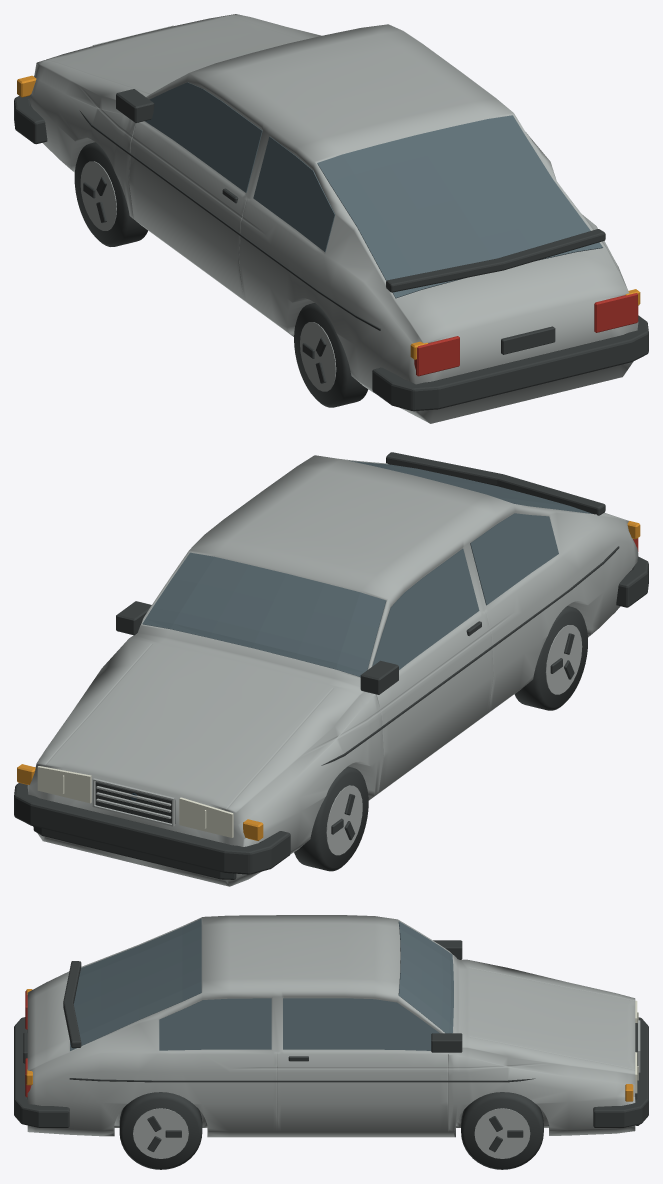
The model's file is saab900-t16.glb.
3 views of the same model, one above another, from view 1: azimuth 30°, elevation 25°; view 2: azimuth 150°, elevation 25°; view 3: azimuth 270°, elevation 25° (orthographic). The views are drawn at different scales.
Parts seen in each view (by area): view 1: body, glass_envelope, parts_charcoal_plastic_rubber, parts_tail_lamp_red, wheel_rl, wheel_fl, trim_rim_fl, trim_rim_rl; view 2: body, glass_envelope, parts_charcoal_plastic_rubber, parts_headlamp_ivory, wheel_fl, wheel_rl, trim_rim_fl, trim_rim_rl, parts_satin_alloy, parts_indicator_amber; view 3: body, glass_envelope, parts_charcoal_plastic_rubber, wheel_rr, wheel_fr, trim_rim_fr, trim_rim_rr, trim_spokes_fr, trim_spokes_rr.
Part boxes in pixels (left/top/right/bottom): body: left=28, top=14, right=638, bottom=423; glass_envelope: left=145, top=82, right=602, bottom=298; parts_charcoal_plastic_rubber: left=14, top=89, right=648, bottom=411; parts_tail_lamp_red: left=414, top=293, right=638, bottom=376; wheel_rl: left=294, top=303, right=368, bottom=407; wheel_fl: left=74, top=142, right=147, bottom=246; trim_rim_fl: left=80, top=161, right=116, bottom=230; trim_rim_rl: left=300, top=322, right=336, bottom=391; body: left=27, top=455, right=638, bottom=886; glass_envelope: left=142, top=460, right=592, bottom=677; parts_charcoal_plastic_rubber: left=14, top=452, right=648, bottom=879; parts_headlamp_ivory: left=37, top=766, right=233, bottom=837; wheel_fl: left=294, top=766, right=368, bottom=871; wheel_rl: left=514, top=606, right=587, bottom=710; trim_rim_fl: left=326, top=785, right=362, bottom=855; trim_rim_rl: left=545, top=625, right=582, bottom=694; parts_satin_alloy: left=92, top=778, right=174, bottom=826; parts_indicator_amber: left=17, top=521, right=640, bottom=840; body: left=27, top=915, right=635, bottom=1137; glass_envelope: left=70, top=918, right=453, bottom=1050; parts_charcoal_plastic_rubber: left=14, top=940, right=648, bottom=1127; wheel_rr: left=119, top=1092, right=202, bottom=1169; wheel_fr: left=461, top=1092, right=543, bottom=1169; trim_rim_fr: left=474, top=1108, right=530, bottom=1158; trim_rim_rr: left=133, top=1108, right=188, bottom=1158; trim_spokes_fr: left=489, top=1116, right=523, bottom=1152; trim_spokes_rr: left=147, top=1116, right=181, bottom=1151.
Bounding box in the file's own units: 1.75 × 1.42 × 4.68.
